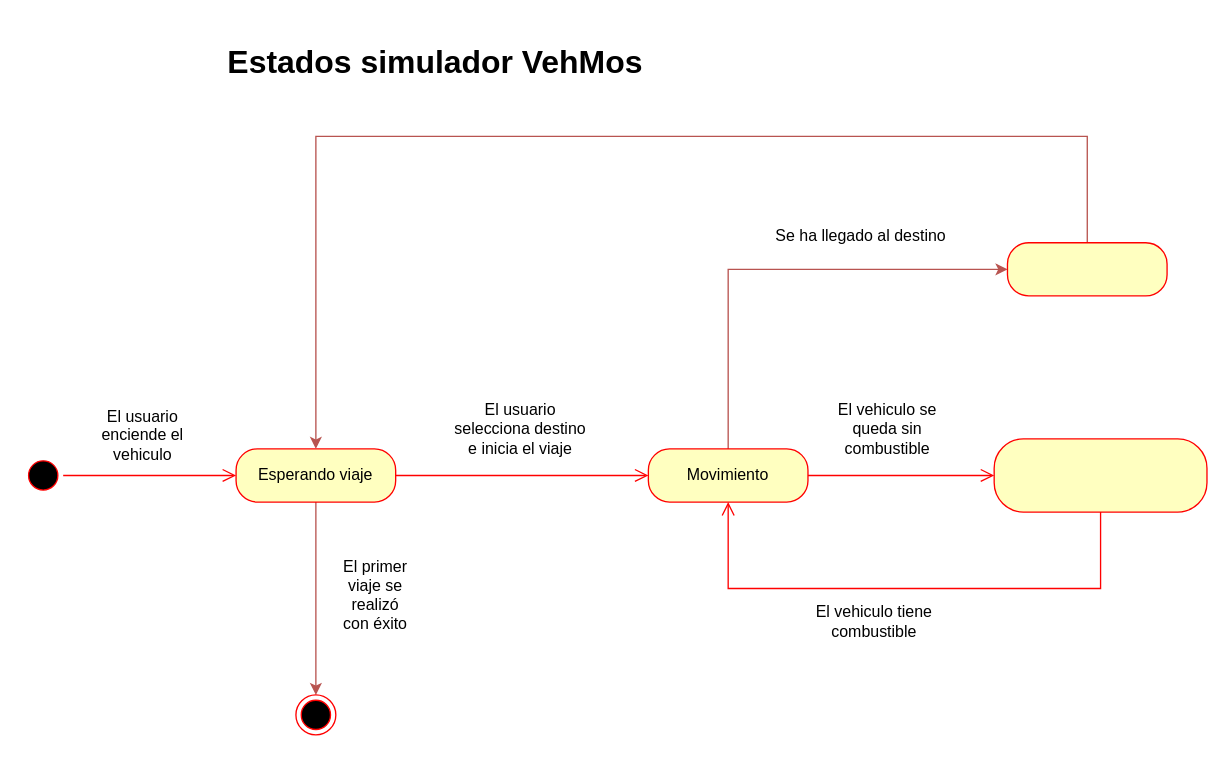
Some shapes in this 1230 by 758 pixel diagram are drawn without their labels. The shapes that lost their labels are listed below. From the top down, each one's centre as x and y in pixels, then its label:
the point at 1086,268: FinalizandoVIaje
the point at 1100,475: RecargandoCombustible
